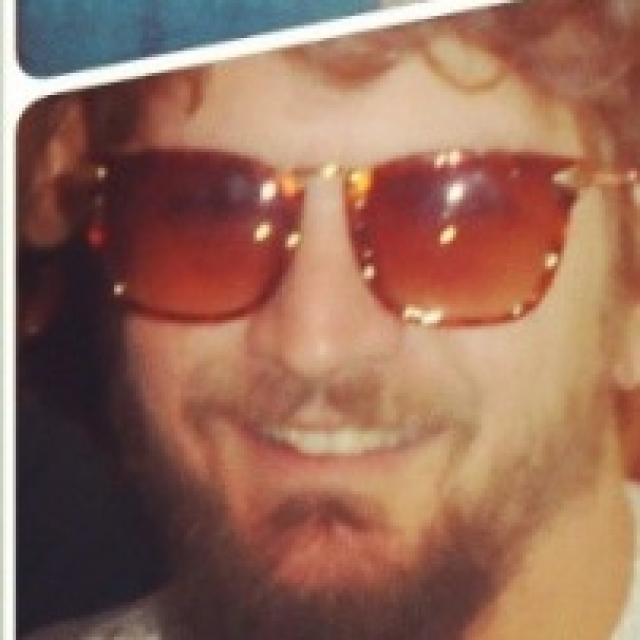Normal: (110, 27, 624, 625)
